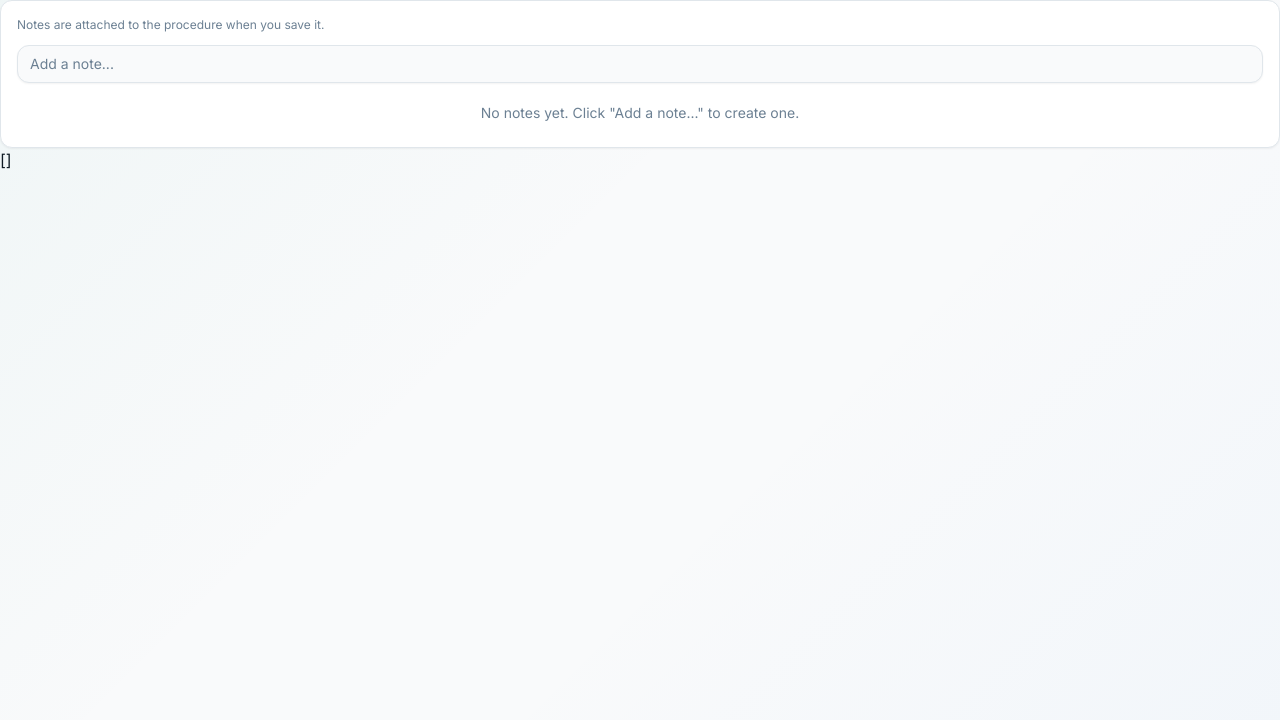
Test: StickyNotes - composer defaults › opens EMPTY when no defaults are given - procedures are untouched
The width and height of the screenshot is (1280, 720).
Step 1. Click the button "Add a note..." → [72, 64], box left=17, top=45, right=1263, bottom=83
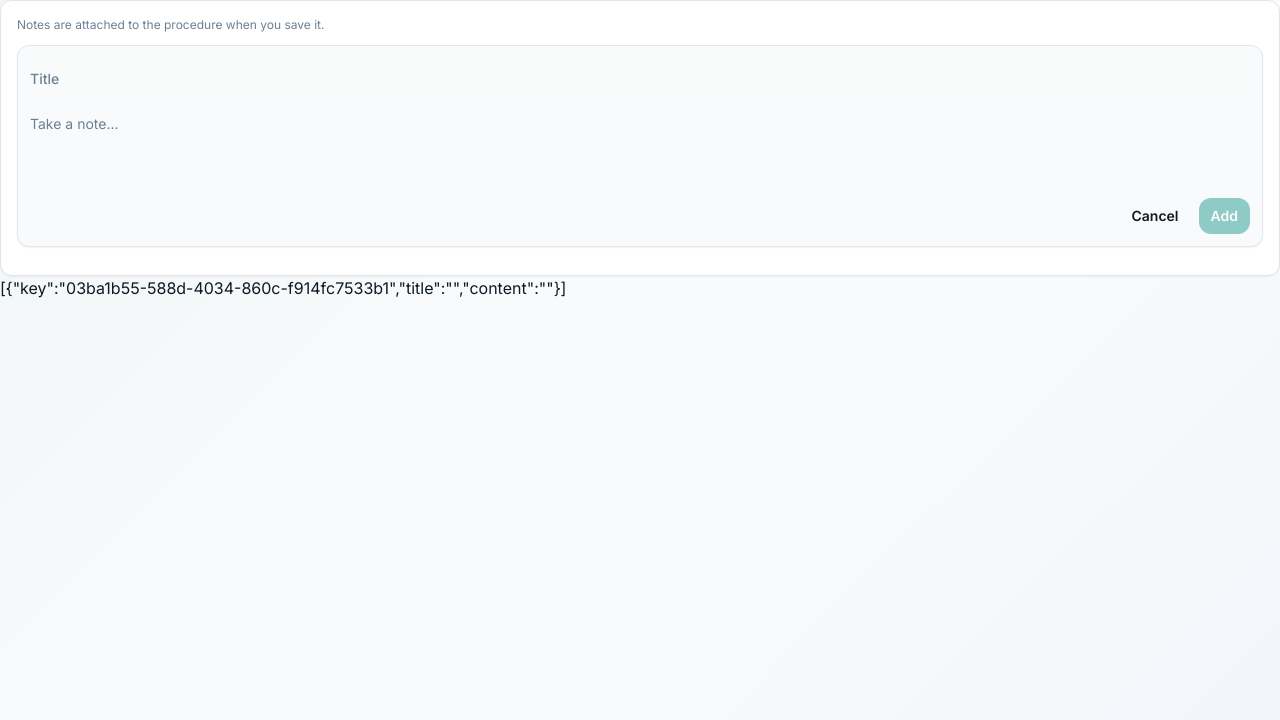
expect the field with placeholder "Title" is empty: met, box left=30, top=58, right=1250, bottom=98
expect the text box with placeholder "Take a note..." is empty: met, box left=30, top=106, right=1250, bottom=186
